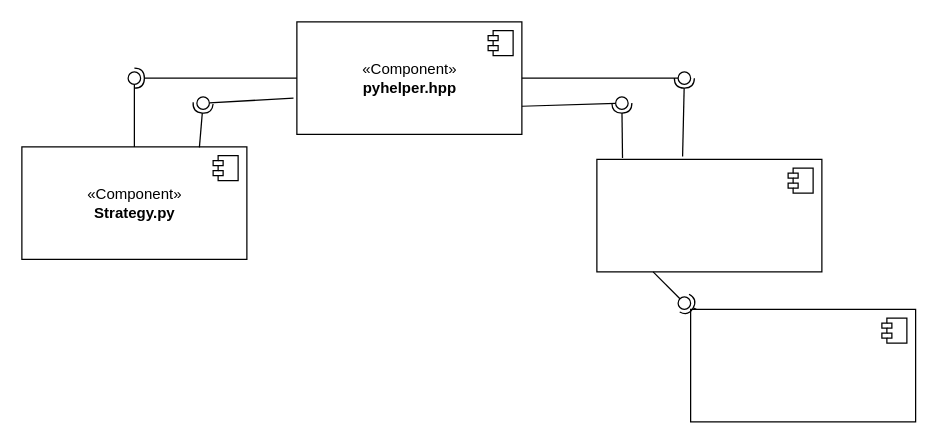
The diagram is 938 pixels wide and 444 high, and some of its shapes have lost their labels. Each missing label, with the centre of its shape:
«Component» Robocup: [802,365]
«Component» Strategy.cc: [709,215]
